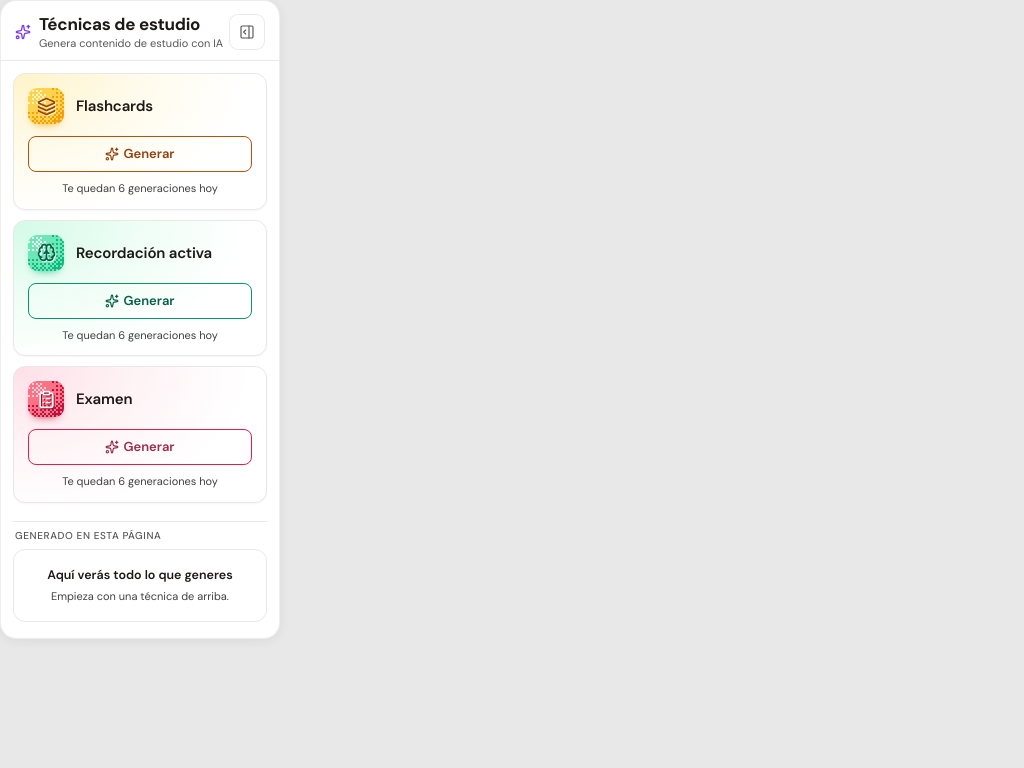
Test: TechniquesPanel › generated items list › adds the Examen row after a generation
The image size is (1024, 768).
Click the button with test id "generate-exam-questions" at [140, 447], box [28,429,252,465]
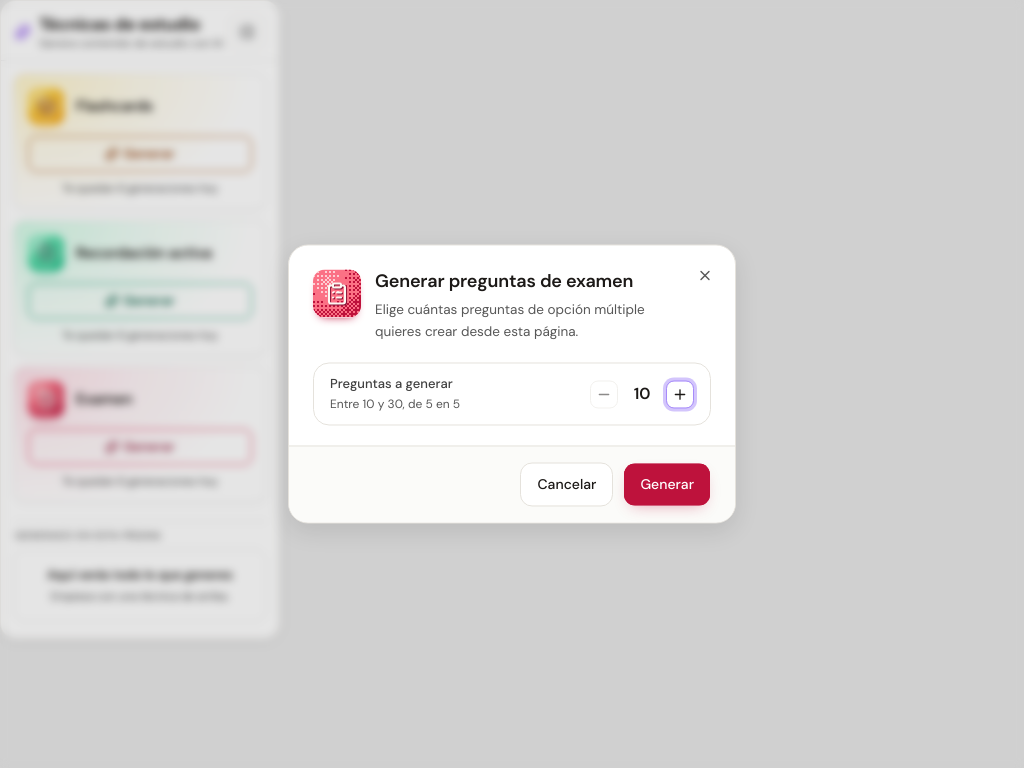
Click the button with test id "confirm-exam-generation" at [667, 484], box [623,462,711,506]
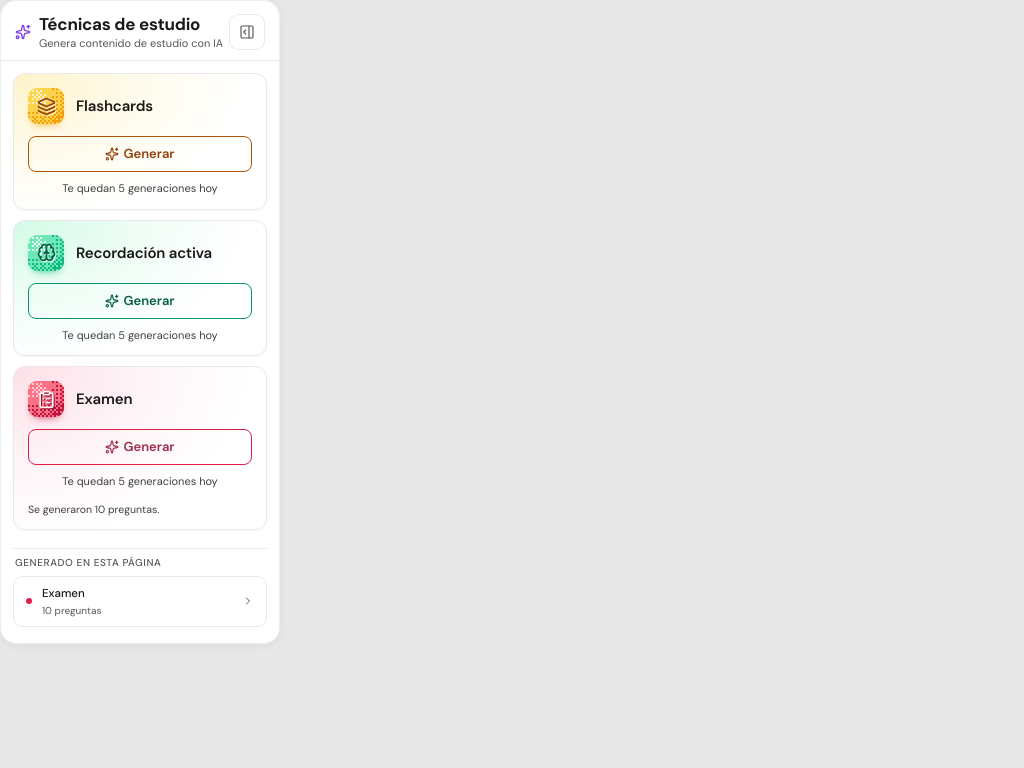
Check: the link with test id "generated-item-exam" shows "10 preguntas", box [13,576,267,627]
